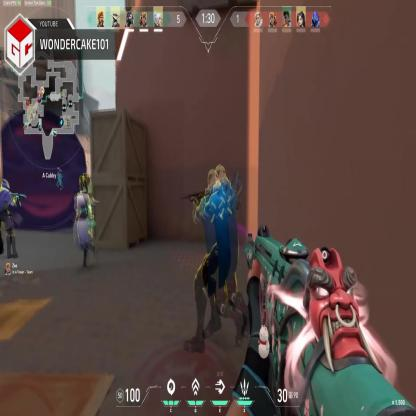enemy: (191, 167, 246, 348), (69, 173, 95, 266), (0, 180, 19, 264)
enemy_head: (211, 167, 227, 189), (79, 176, 89, 193), (2, 179, 11, 191)
